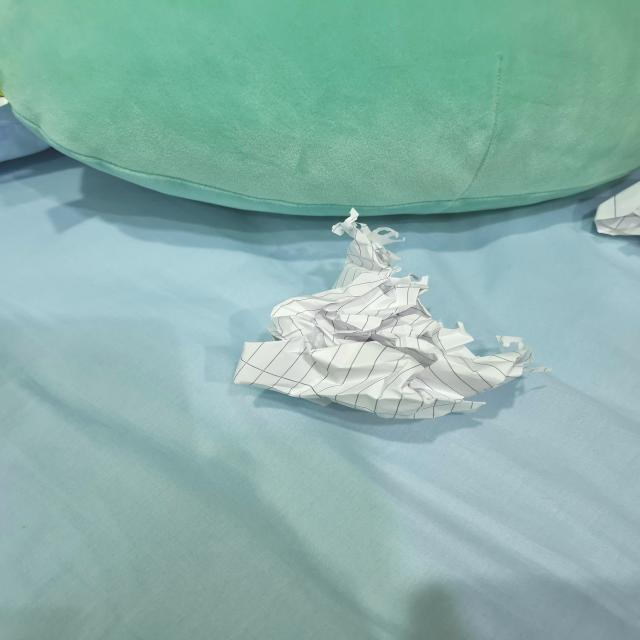Paper: (214, 200, 564, 447), (581, 159, 640, 247)
